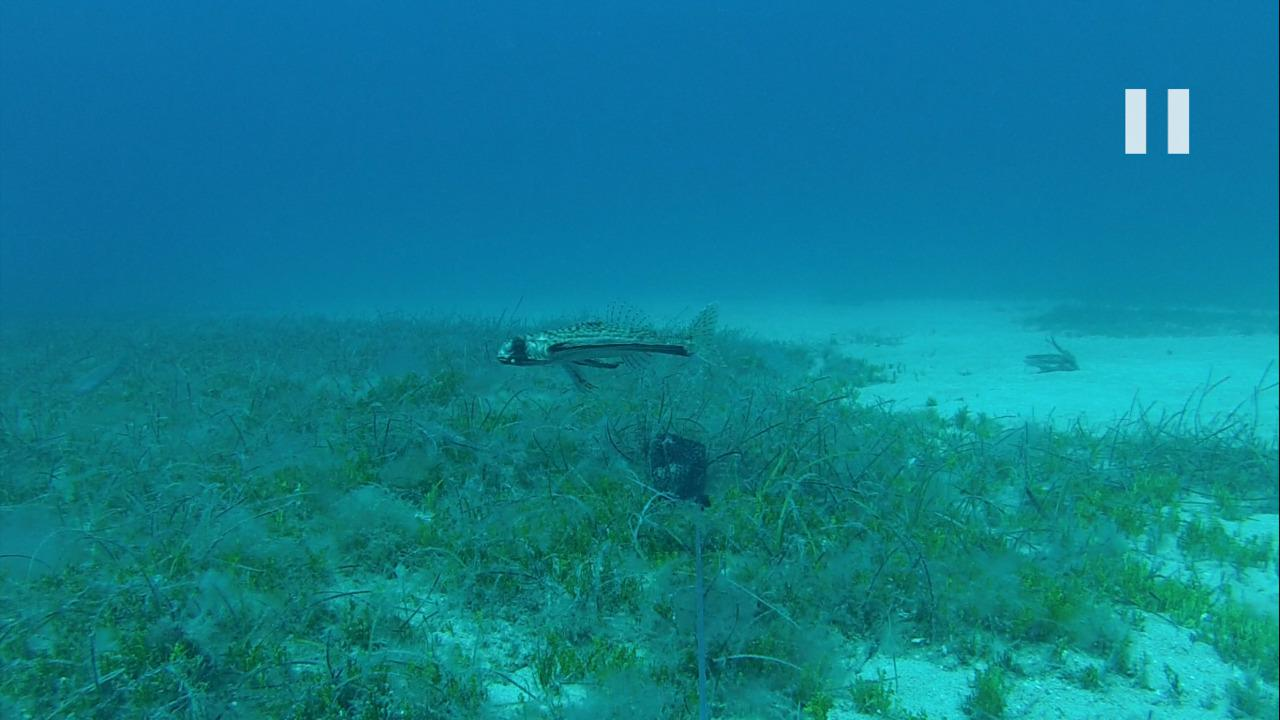dactylopterus: (492, 304, 725, 378)
